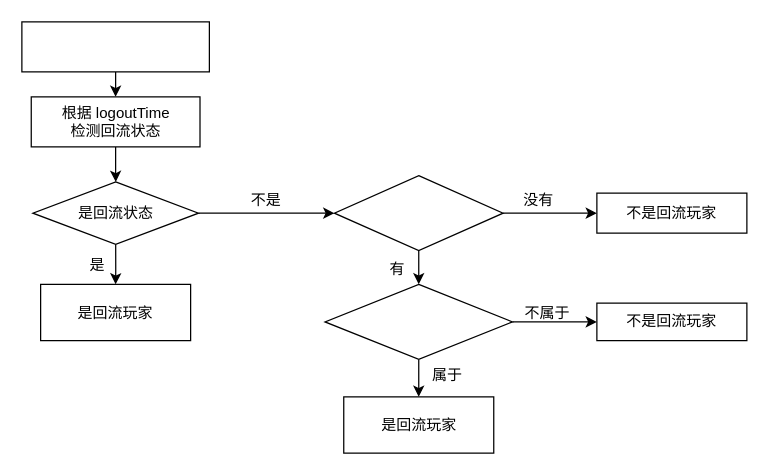
This 769x475 diagram has some shape labels left out. Each missing label, with the centre of its shape:
"判定是否是回流玩家" goes at [115,46].
"属于 backFlowTime + 30d" goes at [418,321].
"有backFlowTime" goes at [418,212].
